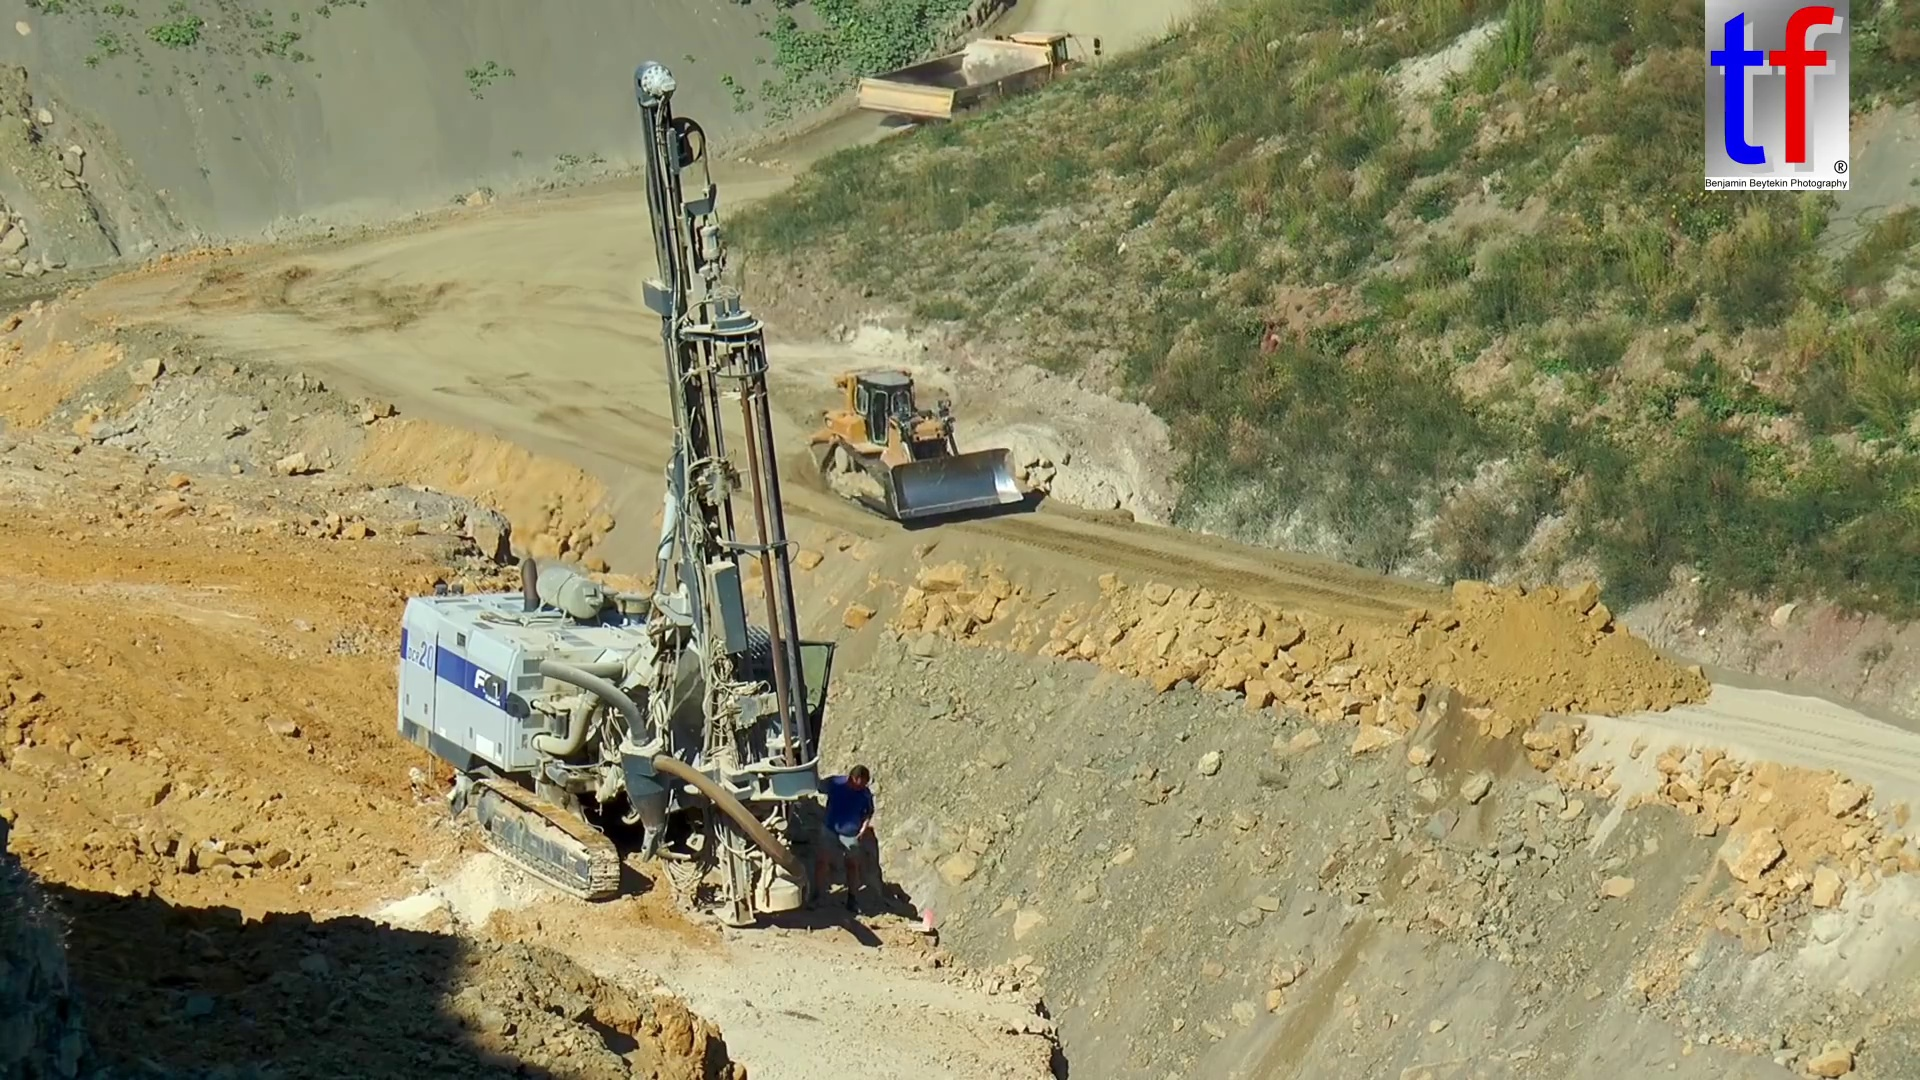bulldozer: (808, 359, 1030, 520)
dumper: (855, 26, 1083, 137)
